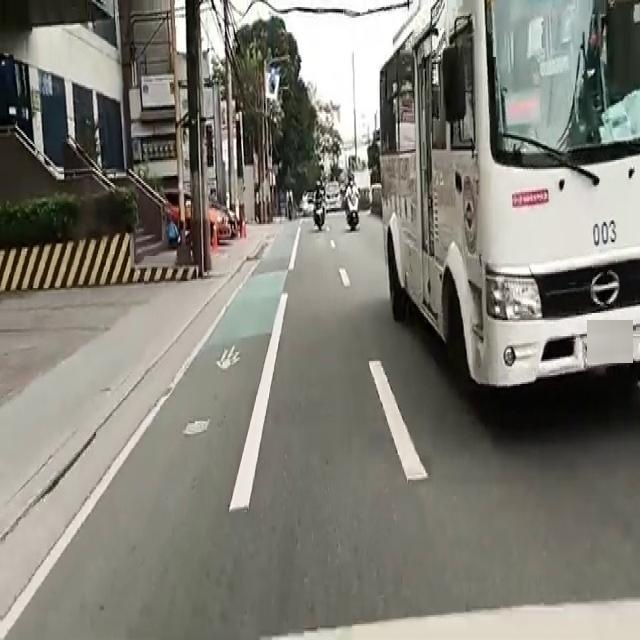bus: (372, 14, 640, 411)
motorcycle: (344, 176, 362, 235), (314, 186, 324, 228)
